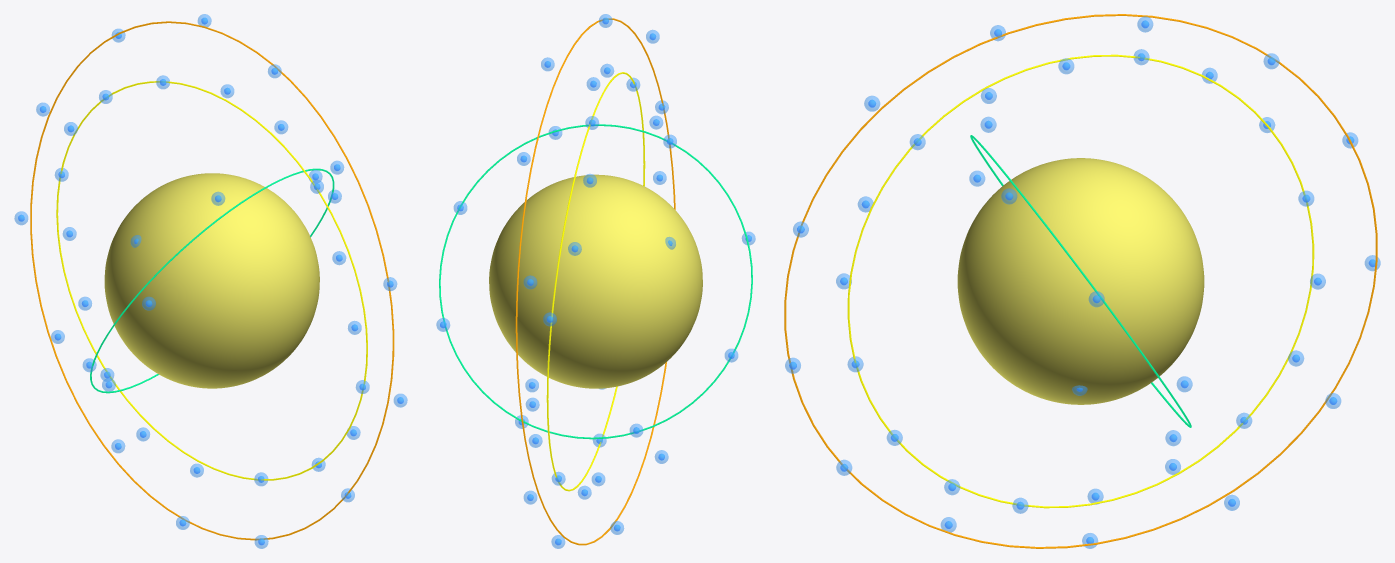
3 views of the same model, side by side, from view 1: azimuth 30°, elevation 25°; view 2: azimuth 150°, elevation 25°; view 3: azimuth 270°, elevation 25° (orthographic). The views are drawn at different scales.
Visible parts, largest first — view 1: Nb, object 61, object 24, object 7; view 2: Nb, object 61, object 7, object 24; view 3: Nb, object 61, object 24, object 7.
Boxes of the visible parts, left/top/right/bottom form: Nb: left=104, top=173, right=319, bottom=388; object 61: left=30, top=21, right=394, bottom=540; object 24: left=56, top=81, right=367, bottom=480; object 7: left=90, top=168, right=334, bottom=393; Nb: left=489, top=174, right=702, bottom=388; object 61: left=515, top=18, right=675, bottom=545; object 7: left=439, top=124, right=752, bottom=439; object 24: left=546, top=72, right=645, bottom=491; Nb: left=957, top=158, right=1204, bottom=404; object 61: left=784, top=14, right=1377, bottom=548; object 24: left=847, top=54, right=1314, bottom=508; object 7: left=970, top=135, right=1191, bottom=427.
Bounding box in the file's own units: 3.54 × 6.07 × 5.89.
